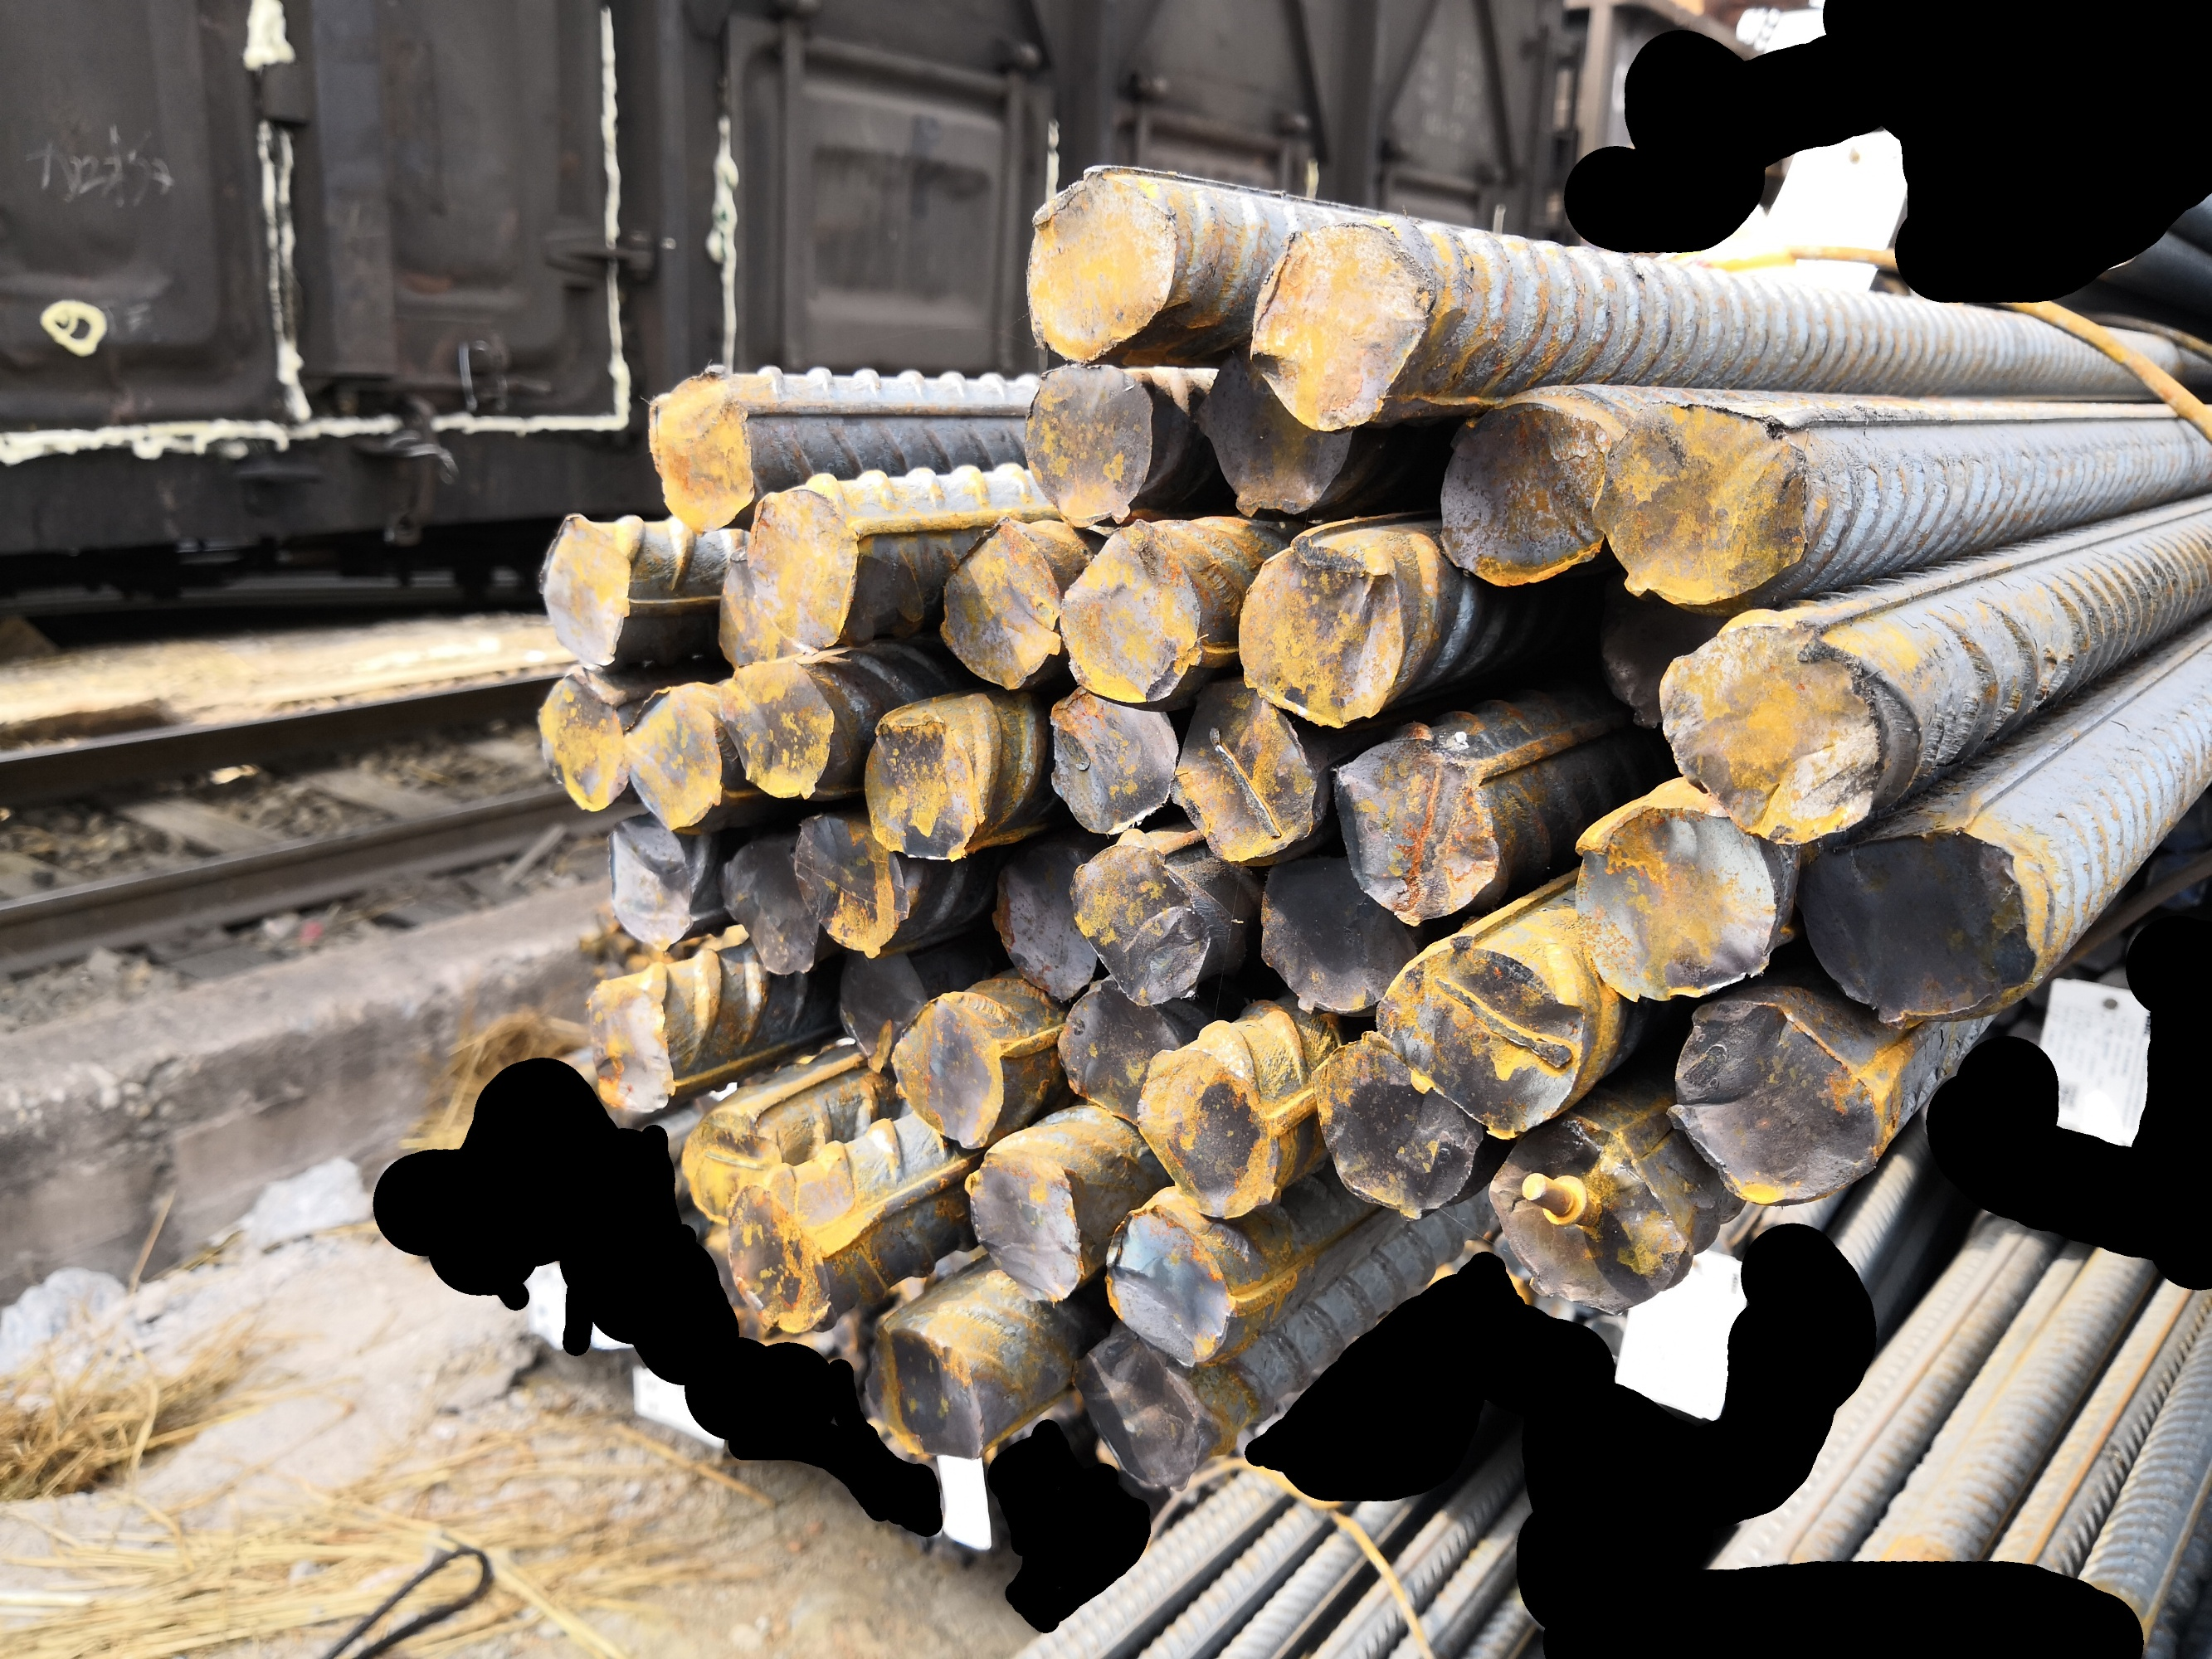rebar: (1654, 615, 1886, 847), (1799, 826, 2041, 1030), (1593, 397, 1816, 608), (1668, 999, 1886, 1209), (1374, 934, 1586, 1141), (1571, 802, 1781, 1004), (1248, 216, 1436, 437), (1487, 1115, 1694, 1316), (1232, 526, 1410, 732), (1307, 1028, 1487, 1227), (1436, 392, 1614, 587), (1330, 730, 1506, 927), (1020, 160, 1182, 362), (1170, 678, 1320, 866), (1257, 852, 1422, 1019), (1060, 519, 1208, 706), (1137, 1040, 1285, 1223), (1196, 352, 1358, 518), (1102, 1195, 1243, 1373), (1069, 836, 1213, 1007), (1069, 1328, 1210, 1499), (1021, 362, 1161, 526), (936, 516, 1065, 690), (743, 483, 866, 653), (861, 708, 992, 864), (1046, 685, 1180, 836), (962, 1143, 1084, 1307), (645, 362, 758, 535), (1056, 978, 1185, 1127), (891, 992, 1009, 1154), (863, 1317, 992, 1464), (715, 653, 837, 805), (791, 810, 913, 962), (725, 1180, 838, 1338), (988, 836, 1098, 999), (533, 507, 638, 671), (621, 685, 727, 838), (718, 835, 821, 981), (584, 976, 685, 1117), (533, 666, 629, 812), (713, 540, 814, 671), (605, 814, 697, 955), (680, 1107, 788, 1227), (833, 946, 933, 1077)
